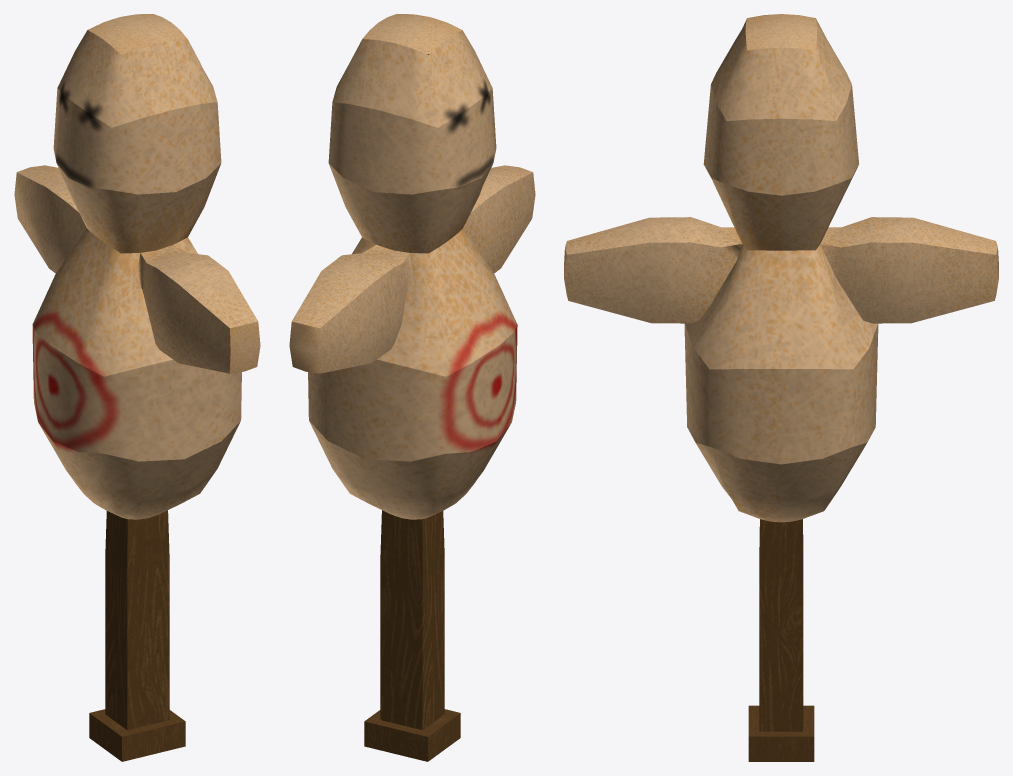
Rendered from TrainingDummy.fbx.
3 renders of one model, left to right at view 1: azimuth 30°, elevation 25°; view 2: azimuth 150°, elevation 25°; view 3: azimuth 270°, elevation 25°, orthographic.
Parts seen in each view (by area): view 1: TrainingDummy_03; view 2: TrainingDummy_03; view 3: TrainingDummy_03.
Boxes of the visible parts, x1,y1,x2,y2 form: TrainingDummy_03: (14,14,260,761); TrainingDummy_03: (289,14,535,761); TrainingDummy_03: (564,14,998,761).
Bounding box in the file's own units: 102 × 404 × 221.
